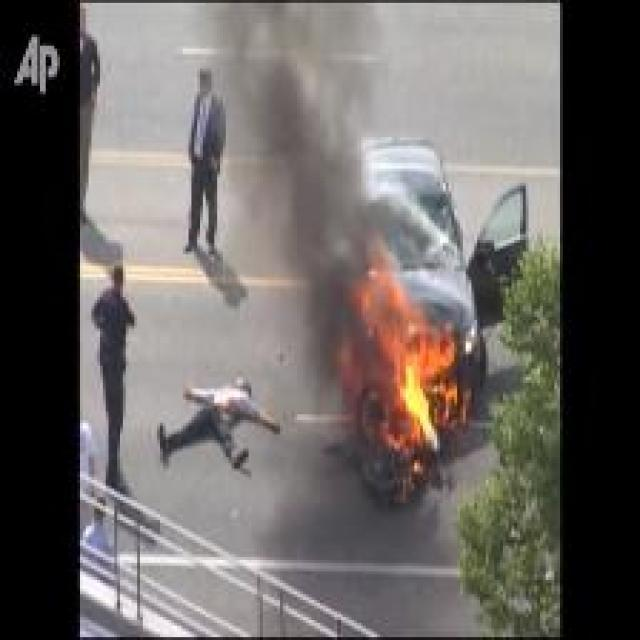Fire: (336, 234, 458, 449)
